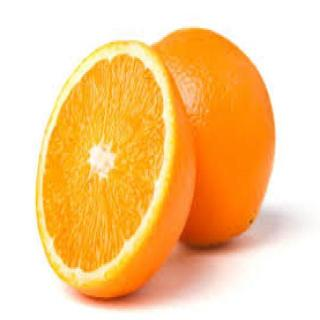orange: (28, 38, 195, 318), (147, 5, 276, 264)
